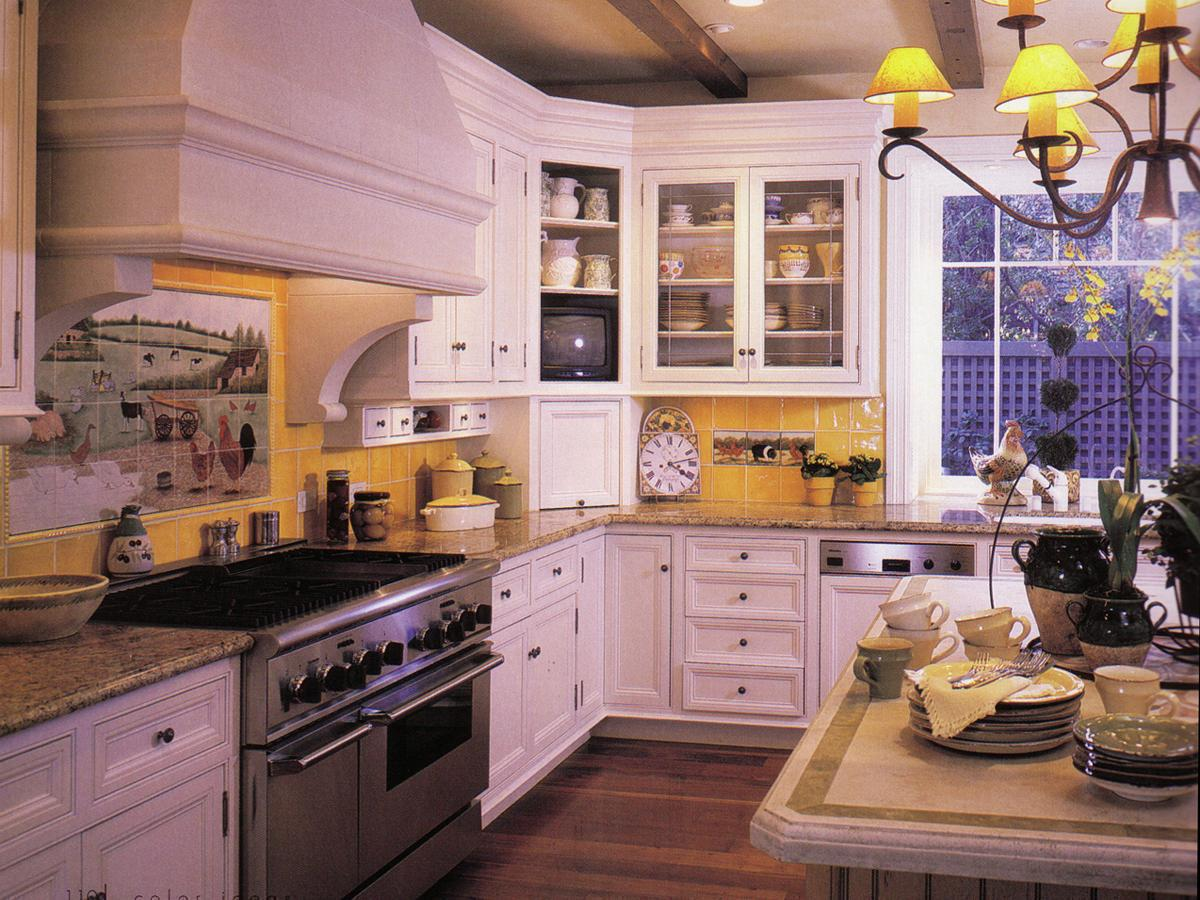Electrodomestico: (250, 566, 484, 874)
